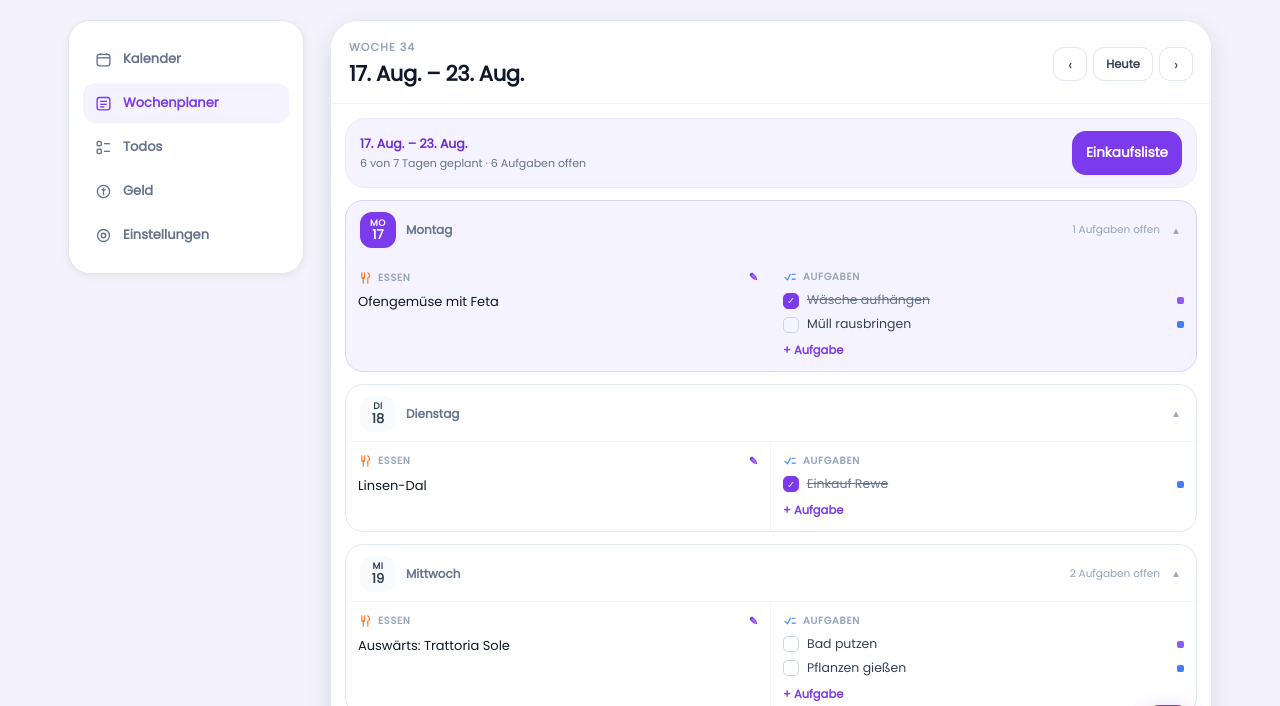
Test: PlannerScreen › laesst einen Tag auf- und zuklappen
Click the button "Mo 17 Montag 1 Aufgaben offen ▴" at [378, 230], box 346,201 -> 1196,258
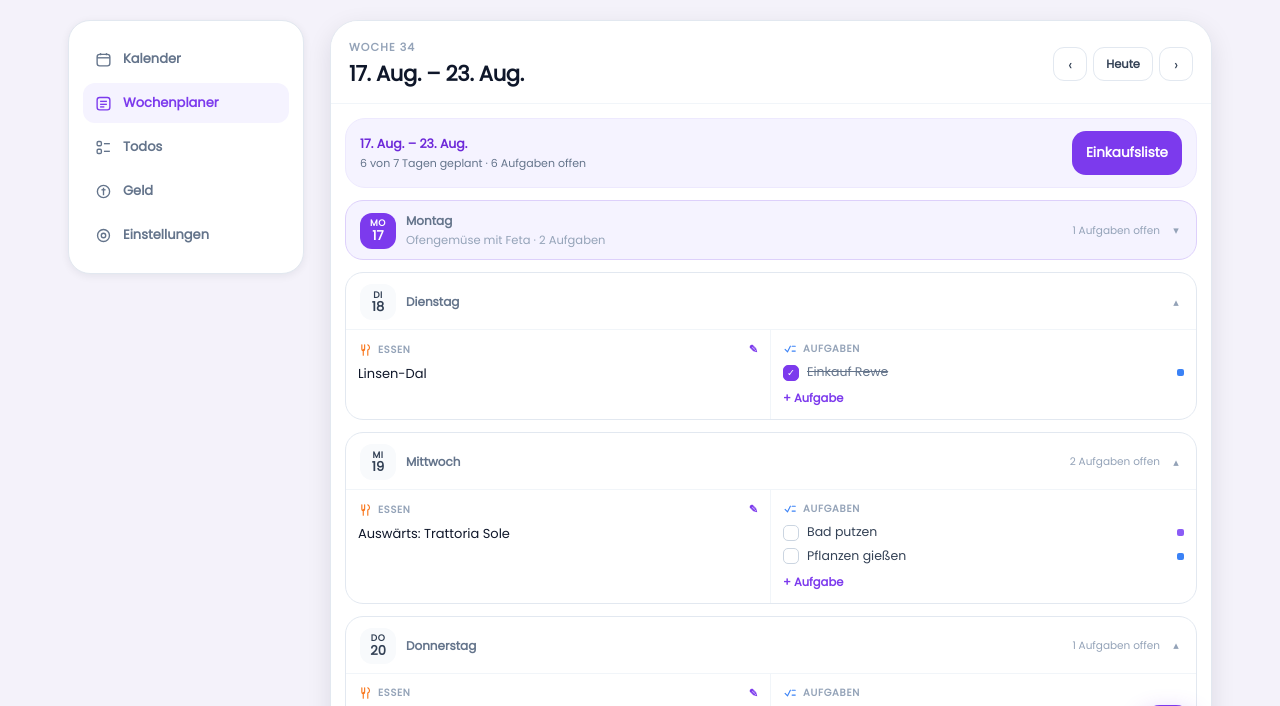
Expected: the button that starts with "Montag" is collapsed, 346,201 -> 1196,259
